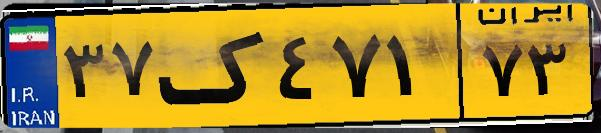1: (385, 28, 445, 110)
3: (57, 26, 110, 100), (525, 38, 570, 115)
4: (270, 28, 330, 110)
7: (330, 28, 385, 110), (475, 38, 525, 113), (110, 28, 158, 98)
ک: (158, 12, 270, 120)
